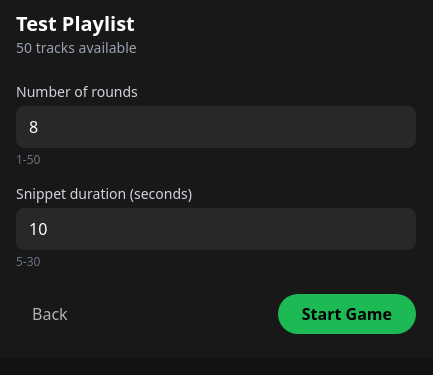
Test: GameSettings › disables start for invalid settings
This screenshot has width=433, height=375.
Replace the text in the number field labelled "Number of rounds" with "0" at (216, 127), box [16,106,416,148]
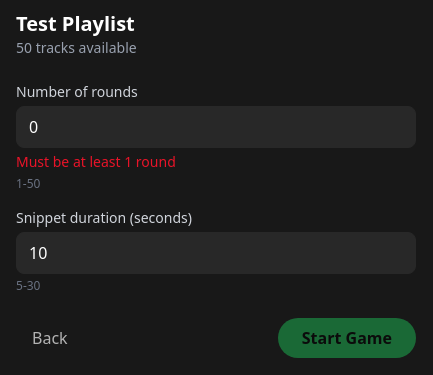
expect the button "Start Game" is disabled: met, box [278,318,416,358]
